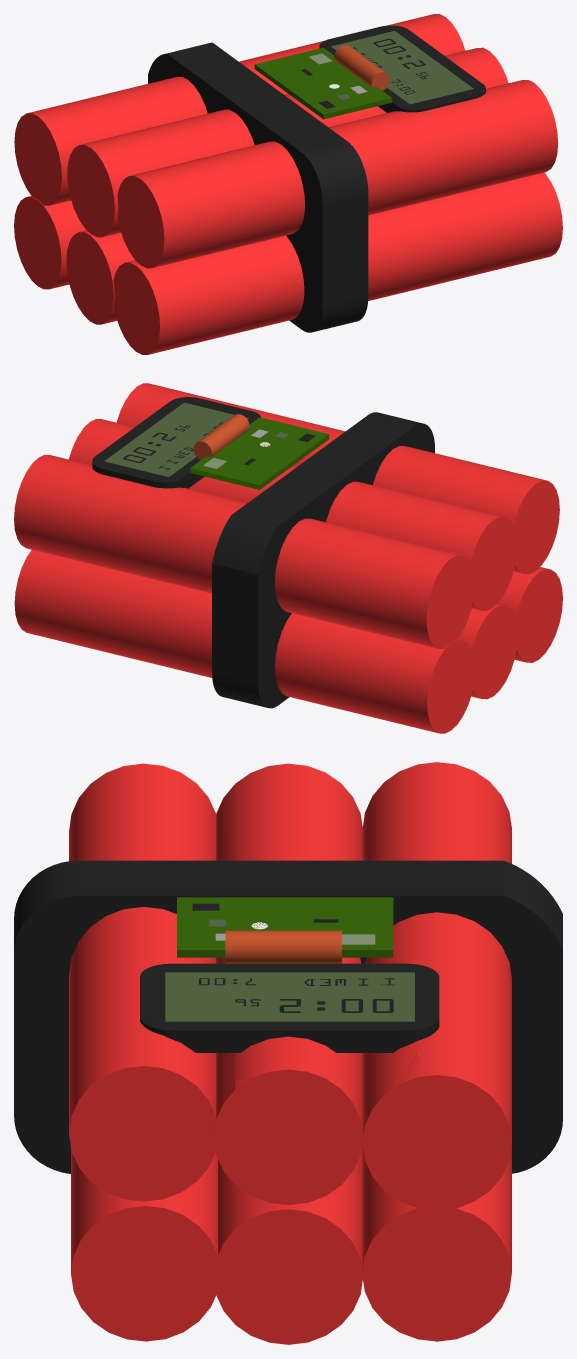
The model's file is bomba2.dae.
3 views of the same model, one above another, from view 1: azimuth 30°, elevation 25°; view 2: azimuth 150°, elevation 25°; view 3: azimuth 270°, elevation 25° (orthographic). The views are drawn at different scales.
Parts seen in each view (by area): view 1: Charge_Pack (×12); view 2: Charge_Pack (×12); view 3: Charge_Pack (×12).
Part boxes in pixels (bbox=[...]): Charge_Pack (×12): bbox=[14, 14, 562, 354]; Charge_Pack (×12): bbox=[14, 383, 562, 733]; Charge_Pack (×12): bbox=[14, 762, 562, 1344].
Bounding box in the file's own units: 22.33 × 16.5 × 10.32.
